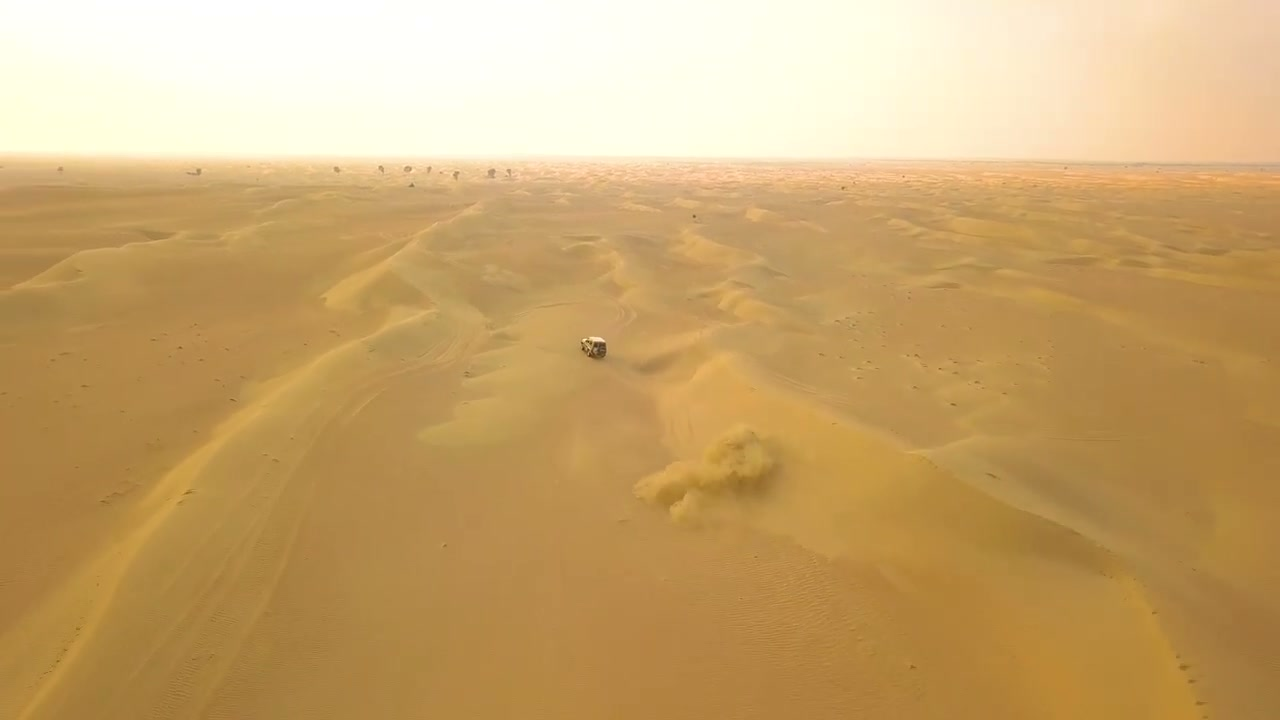vehicle_track: (111, 340, 462, 708)
